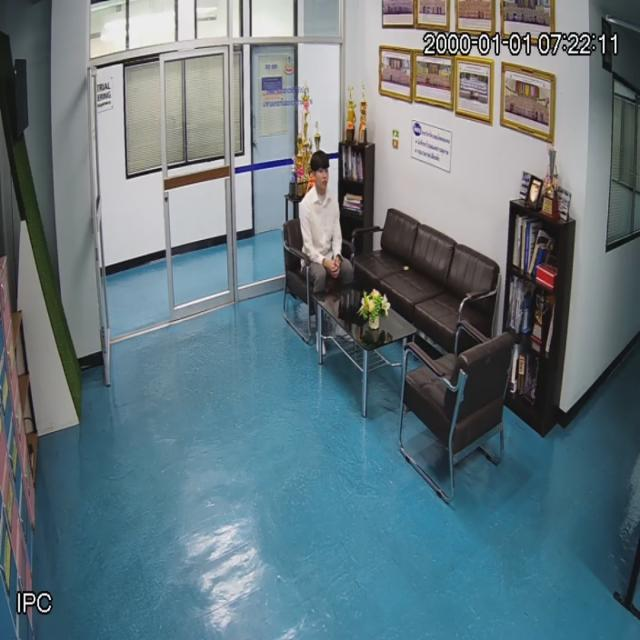normal: (298, 149, 355, 292)
